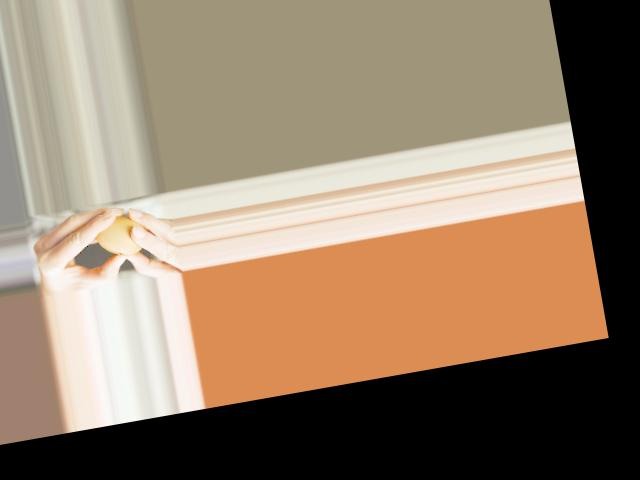egg: (93, 211, 149, 260)
